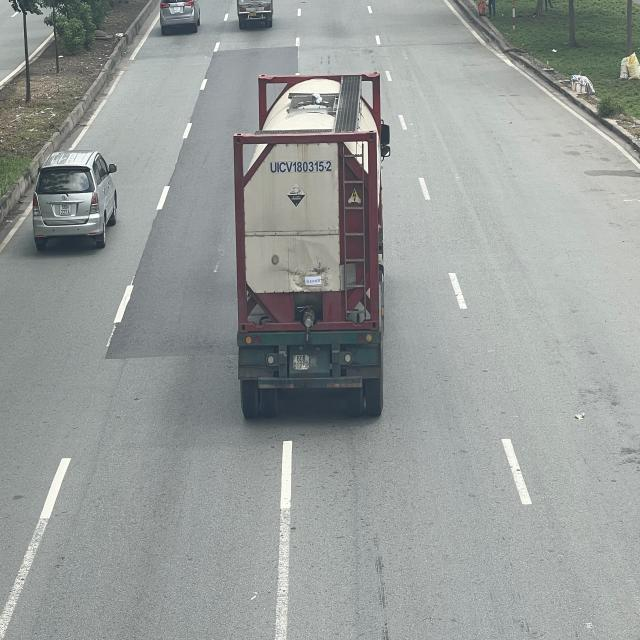car: (32, 149, 118, 245), (159, 0, 202, 32)
container: (234, 70, 390, 415)
